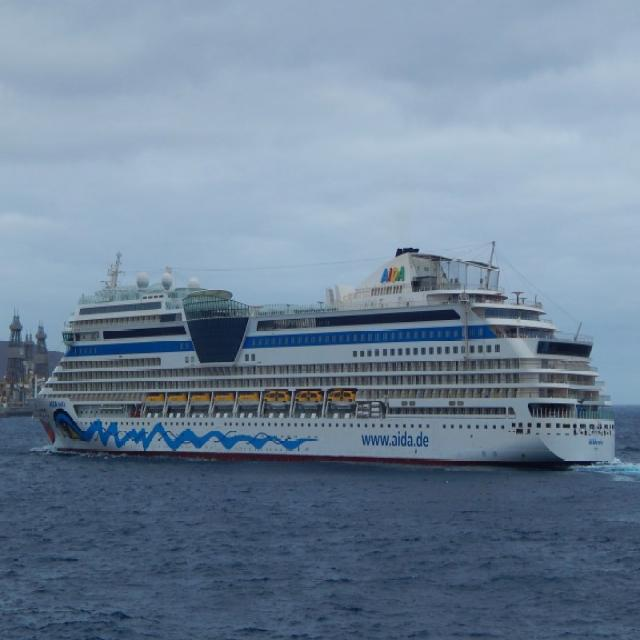cruises: (33, 237, 620, 481)
